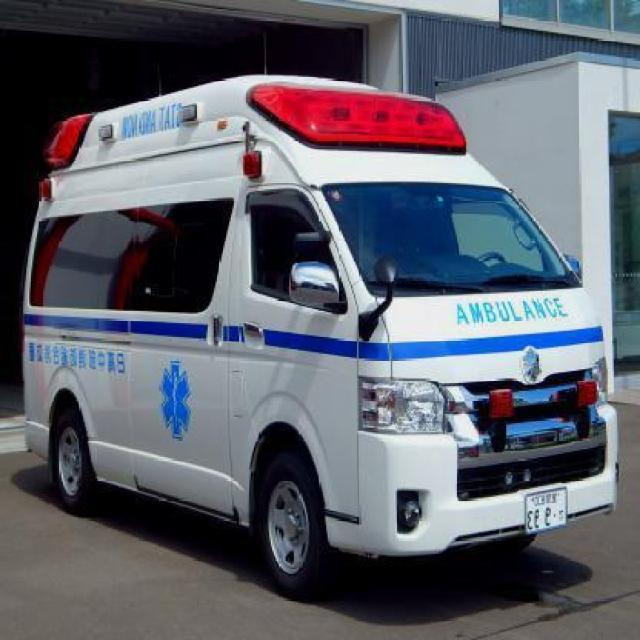emergency: (19, 71, 620, 597)
